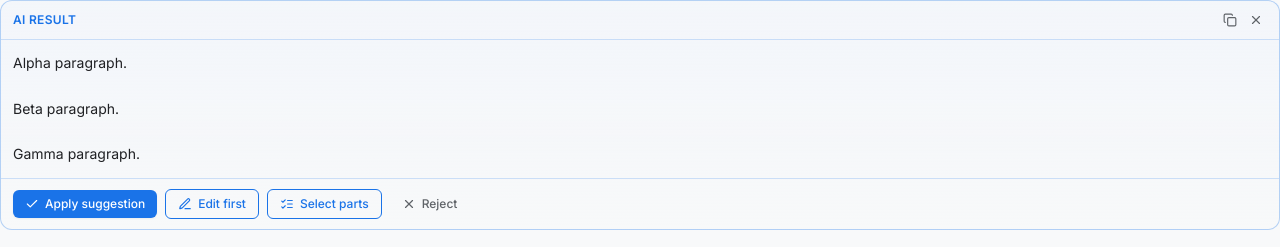
Test: AIResultCard › partial acceptance — accepting › deselecting a segment updates the selected count
The image size is (1280, 247).
Click the button "Select parts" at [324, 204], box [267, 189, 382, 219]
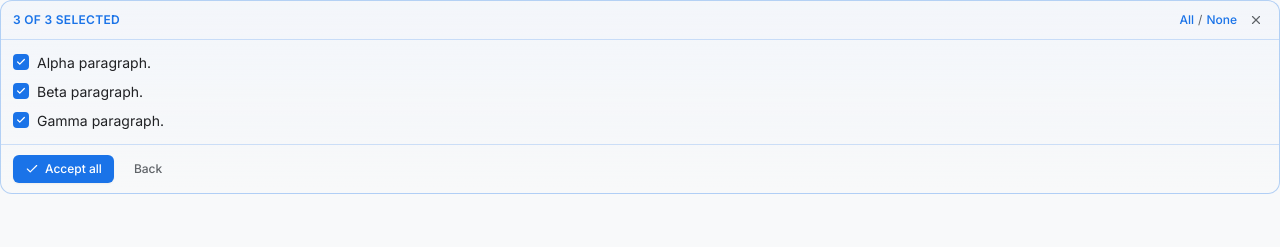
// Deselect segment 2
Click the checkbox named "segment 2" at [90, 91], box [13, 81, 1265, 104]
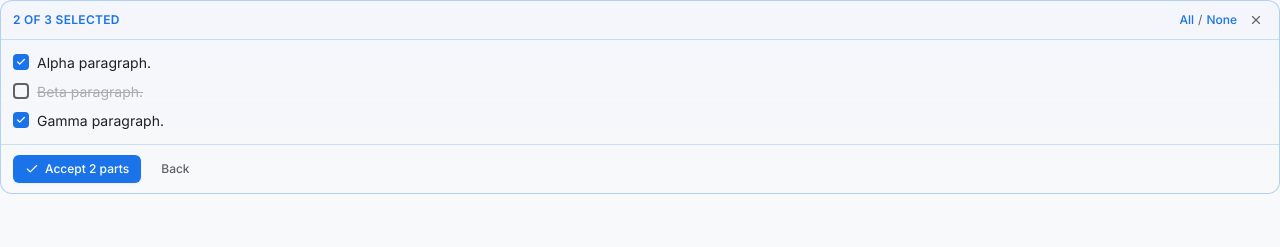
Expected: the text "2 of 3 selected" is shown, [13, 12, 120, 28]
